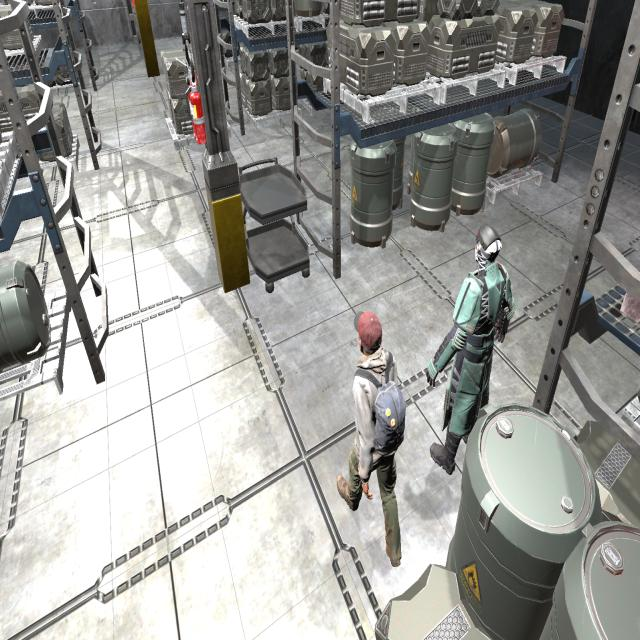thiefs: (332, 304, 412, 576)
